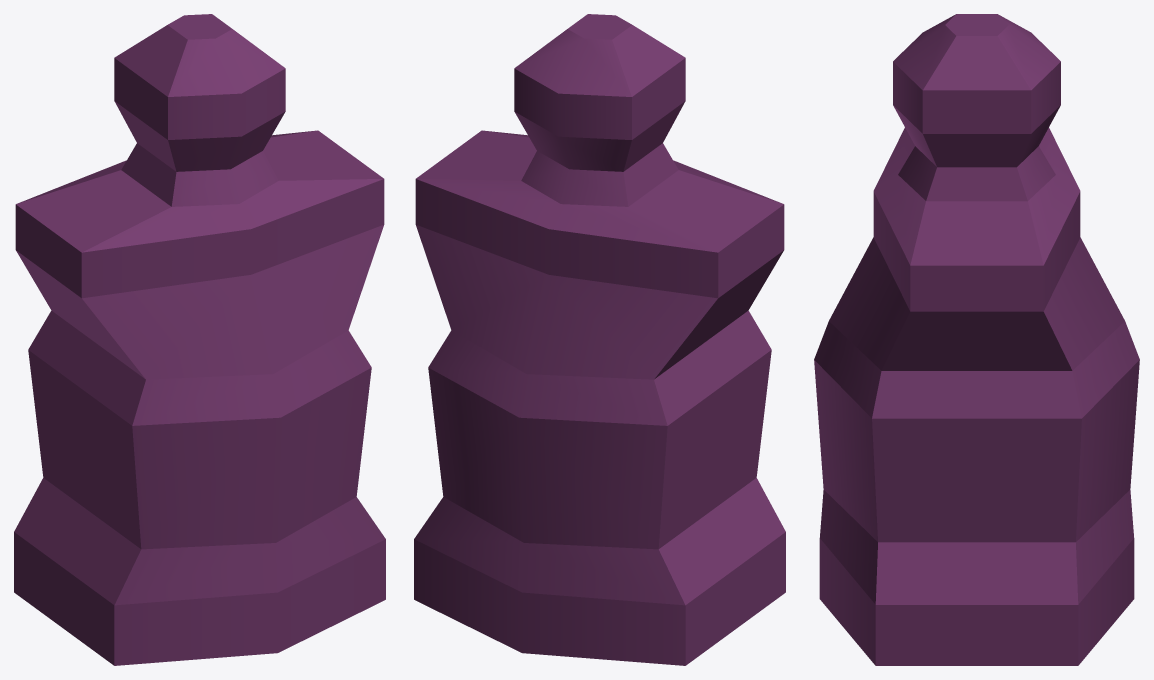
Rendered from shorty_export.fbx.
3 renders of one model, left to right at view 1: azimuth 30°, elevation 25°; view 2: azimuth 150°, elevation 25°; view 3: azimuth 270°, elevation 25°, orthographic.
Visible parts, largest first — view 1: polySurface1; view 2: polySurface1; view 3: polySurface1.
Part boxes in pixels (<box>): polySurface1: <box>14,14,385,665</box>; polySurface1: <box>414,14,785,665</box>; polySurface1: <box>814,14,1139,665</box>.
Bounding box in the file's own units: 3.9 × 7.01 × 3.6.
